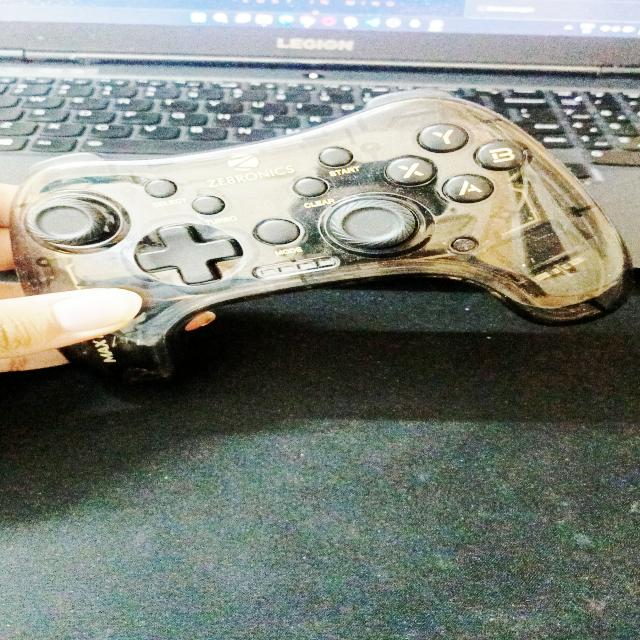gamepad: (7, 90, 631, 383)
